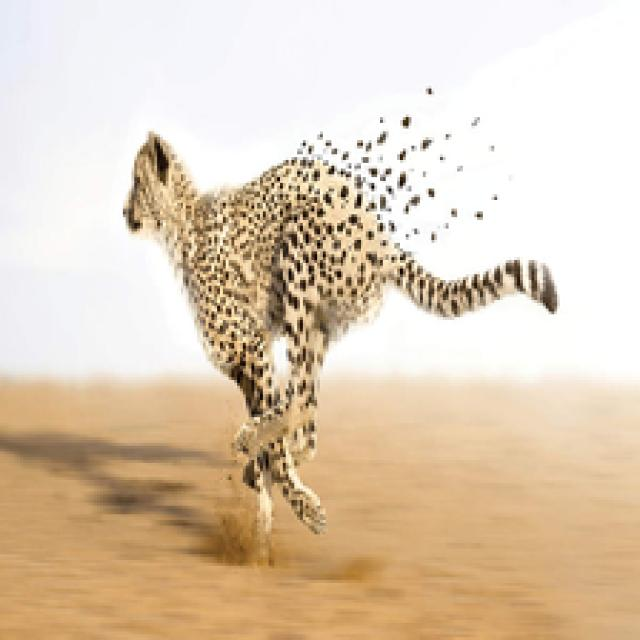cheetah: (123, 113, 566, 538)
